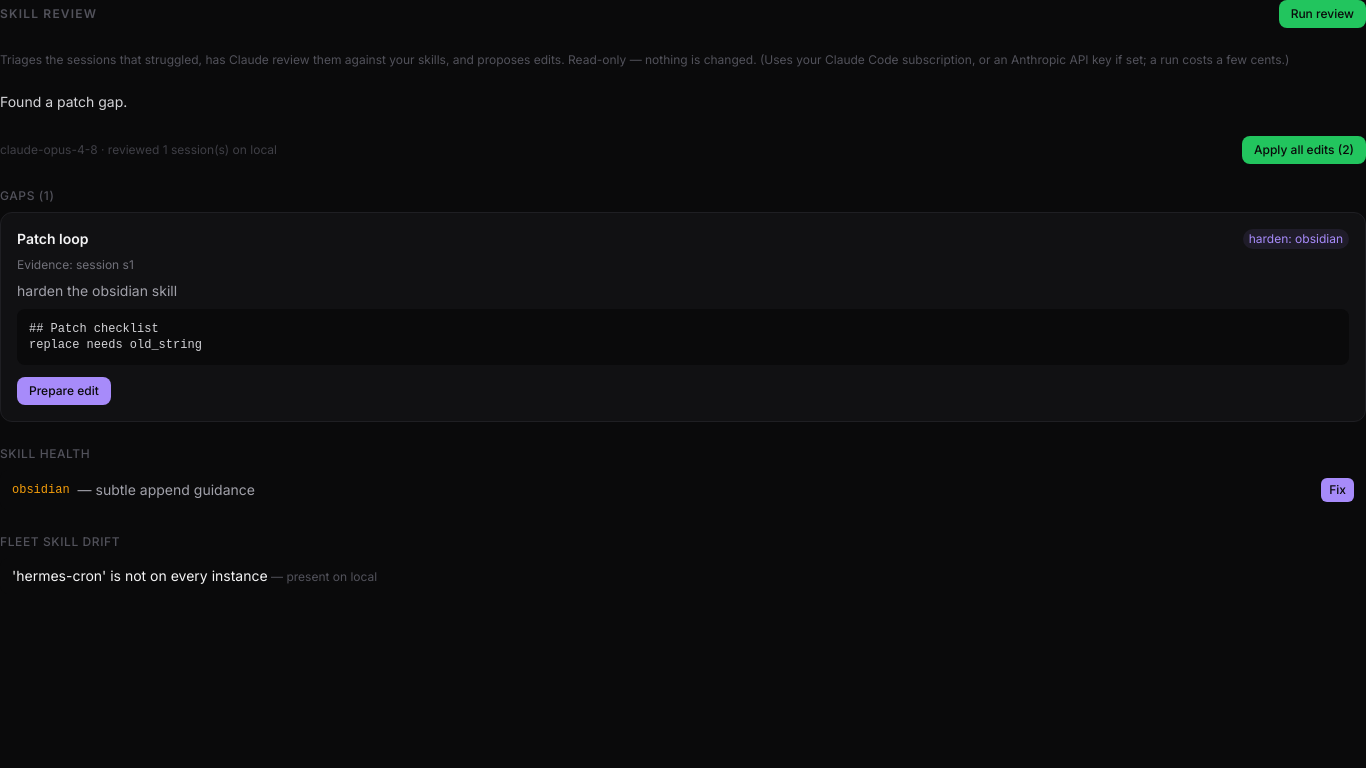
Test: ReviewTab › fixes a skill-health finding via the Fix button
Expected: the text "— subtle append guidance" is shown, [78, 480, 255, 500]
Click the button "Fix": (1338, 490) [1321, 478, 1354, 502]
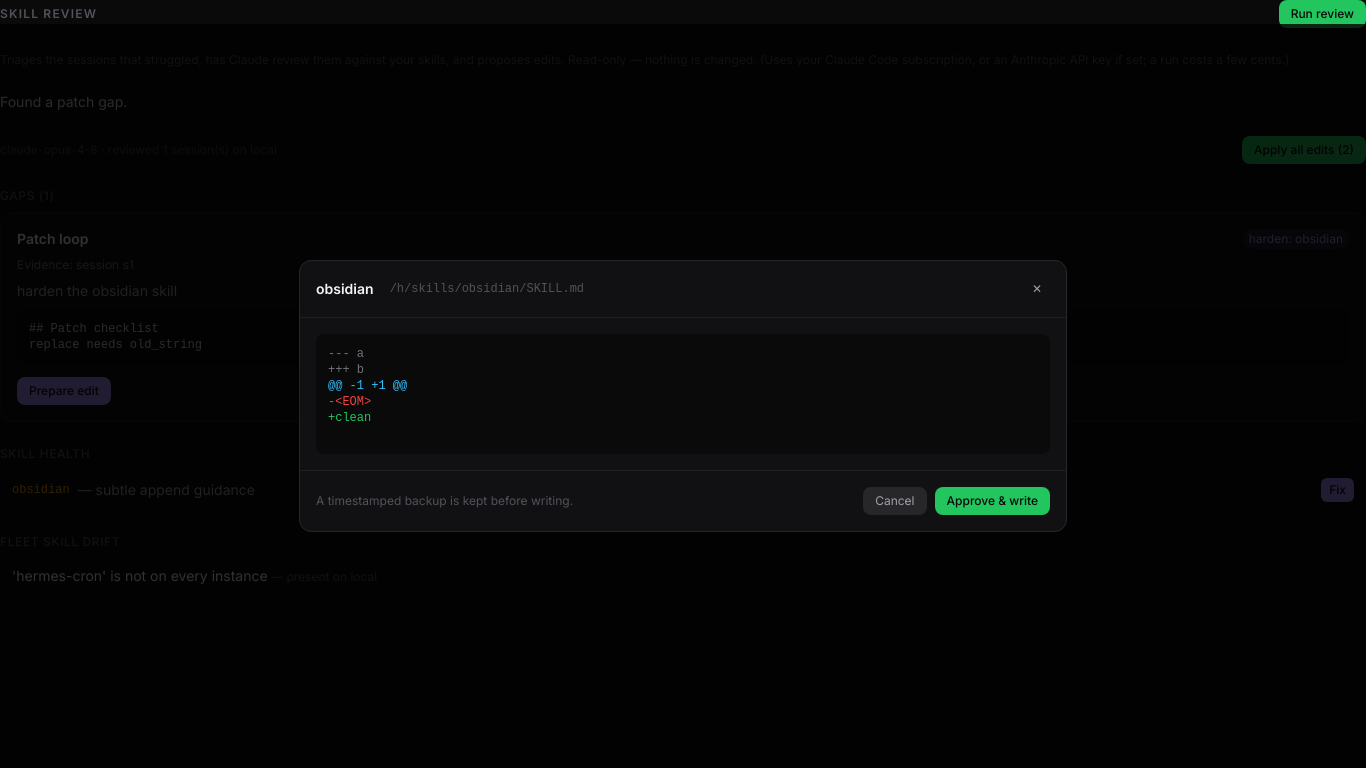
Click the button "Approve & write": (992, 501) [934, 487, 1050, 515]
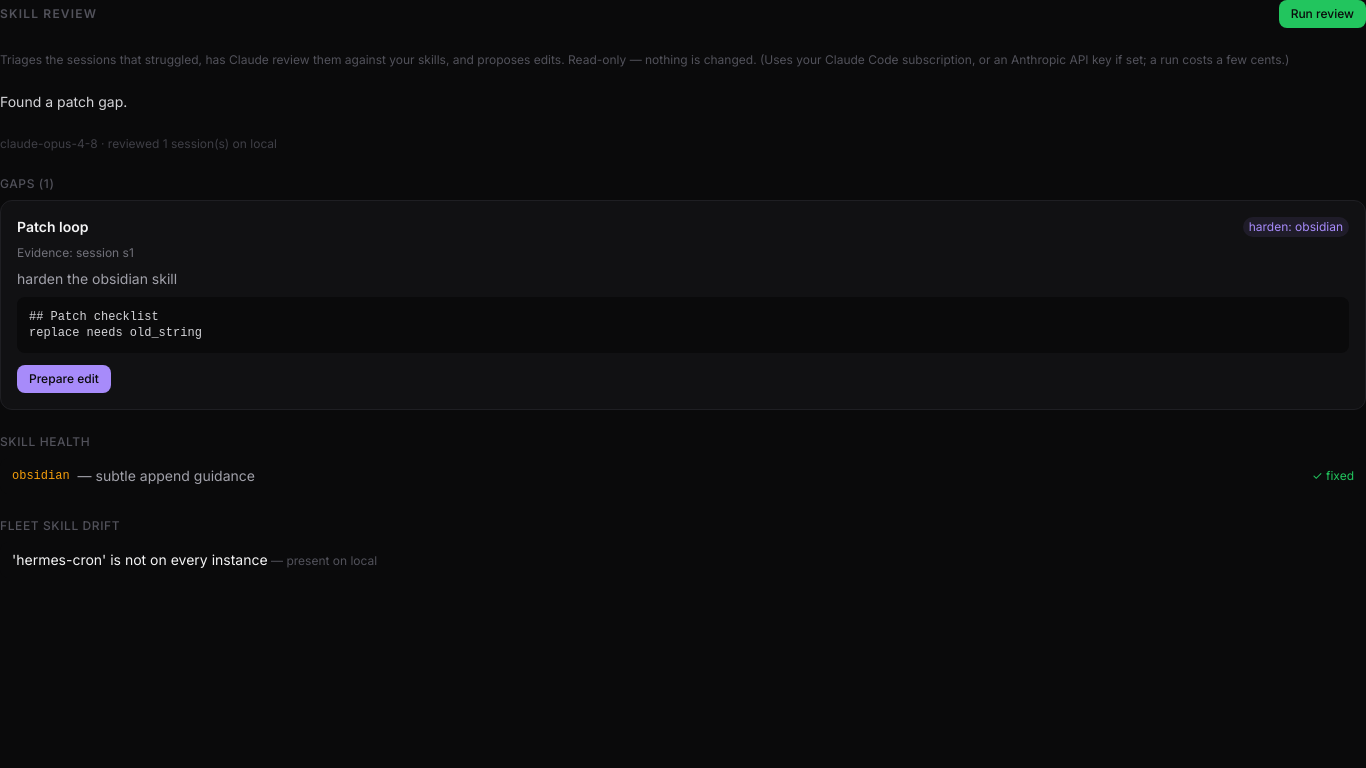
Result: the text "✓ fixed" is shown at [1312, 468, 1354, 484]
